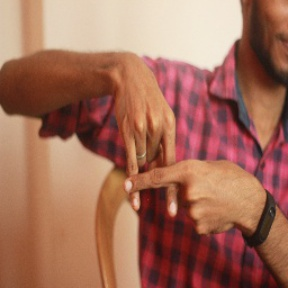H: (116, 119, 190, 216)
